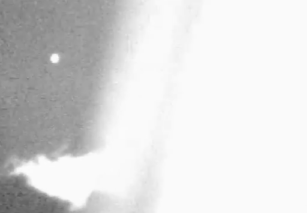Target: (51, 55, 59, 63)
